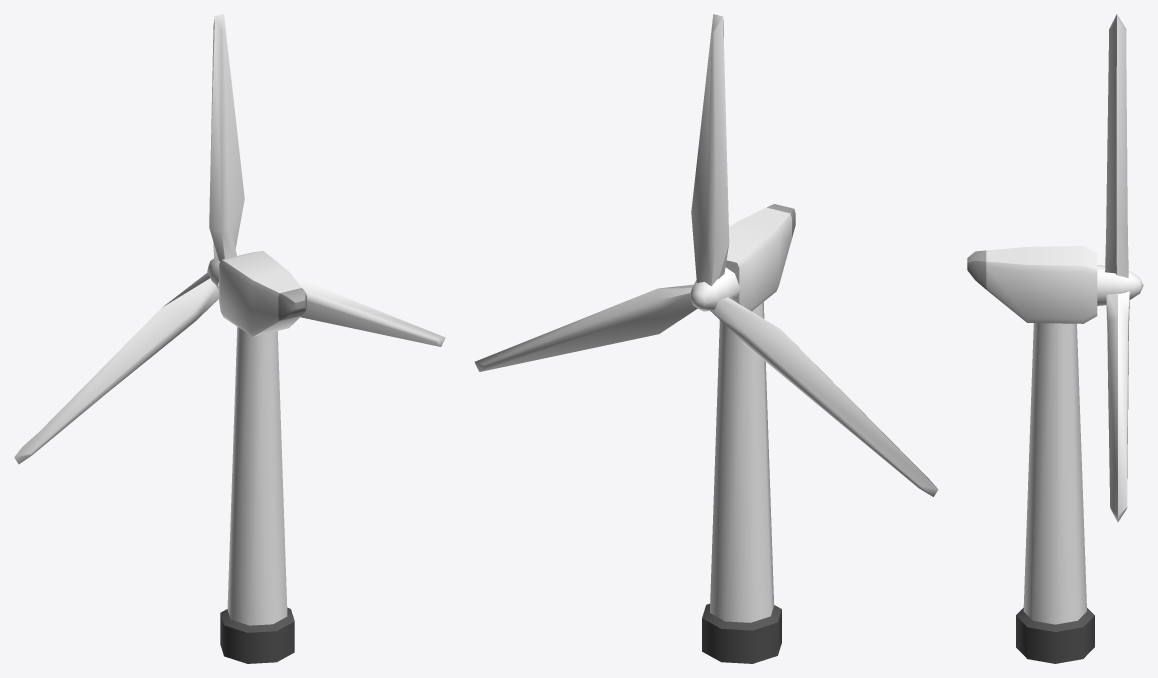
File: Windmill.fbx
3 views of the same model, side by side, from view 1: azimuth 30°, elevation 25°; view 2: azimuth 150°, elevation 25°; view 3: azimuth 270°, elevation 25° (orthographic). The views are drawn at different scales.
Visible parts, largest first — view 1: windmill_base; view 2: windmill_base; view 3: windmill_base.
Part boxes in pixels (box(x1,y1,x2,y2)): windmill_base: box(14, 14, 445, 663); windmill_base: box(474, 14, 938, 663); windmill_base: box(967, 14, 1143, 663).
Bounding box in the file's own units: 794 × 1076 × 274.
